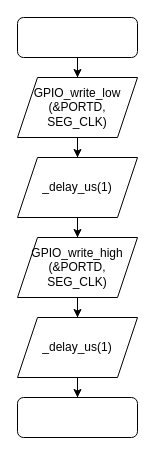
Image size: 155x455. Some labels were removed from this diagram. The shapes that lost their labels are listed below. From the top down, each one's centre as x and y in pixels, then its label:
At point 77,37: "void SEG_clk_2us()".
At point 77,417: "exit".
